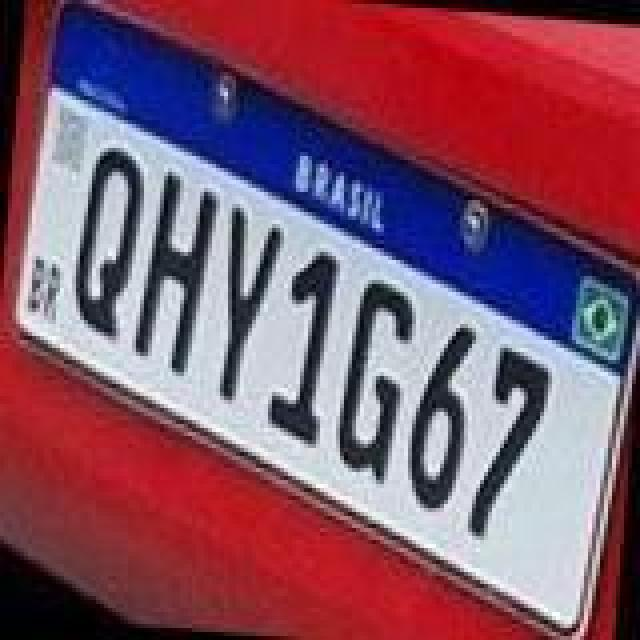1: (264, 240, 344, 448)
6: (400, 316, 480, 516)
7: (466, 340, 558, 548)
G: (330, 276, 422, 492)
H: (128, 166, 224, 378)
Q: (66, 142, 150, 346)
Y: (214, 202, 290, 406)
